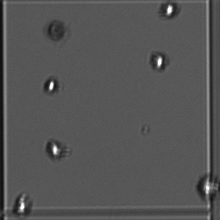Dead Cell: (42, 15, 74, 47)
Living Cell: (43, 136, 72, 165), (158, 1, 184, 26), (148, 49, 172, 73), (197, 174, 218, 199), (41, 73, 63, 95), (13, 193, 33, 215)
